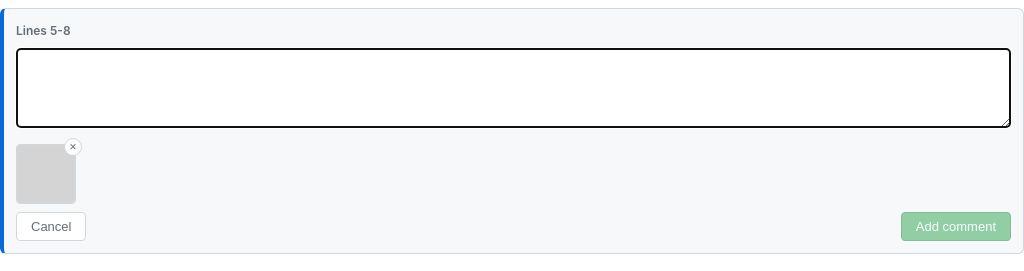
Test: CommentForm › clicking "x" on thumbnail removes it from the preview list
Click the button "×". click: {"x": 73, "y": 147}
box: left=64, top=138, right=82, bottom=156
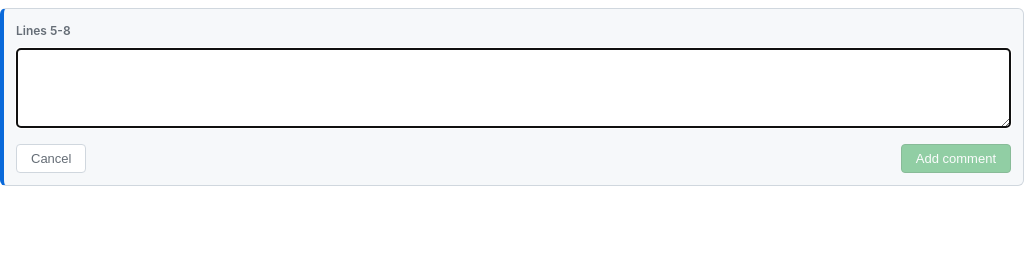
Result: no elements with class "comment-form__thumbnail" are shown
